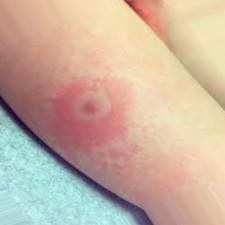Tick: (43, 62, 137, 157)
